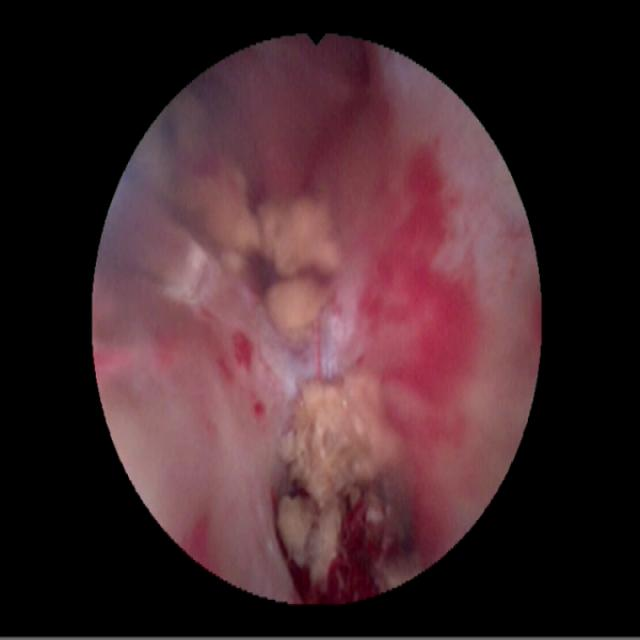stone: (287, 379, 397, 581), (179, 166, 339, 273), (269, 282, 323, 341)
